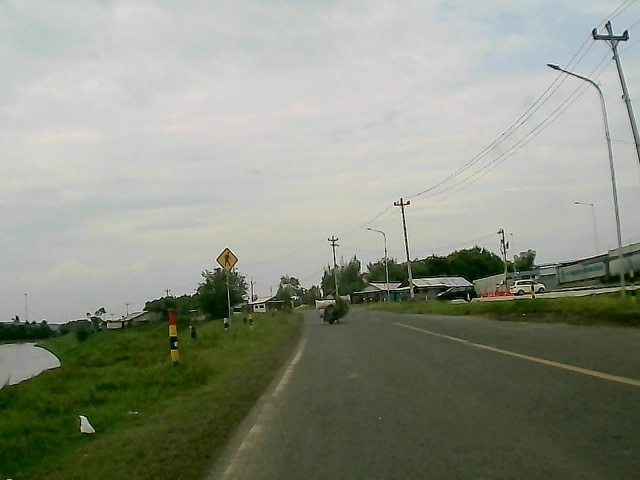Peringatan orang menyeberang: (215, 246, 241, 274)
